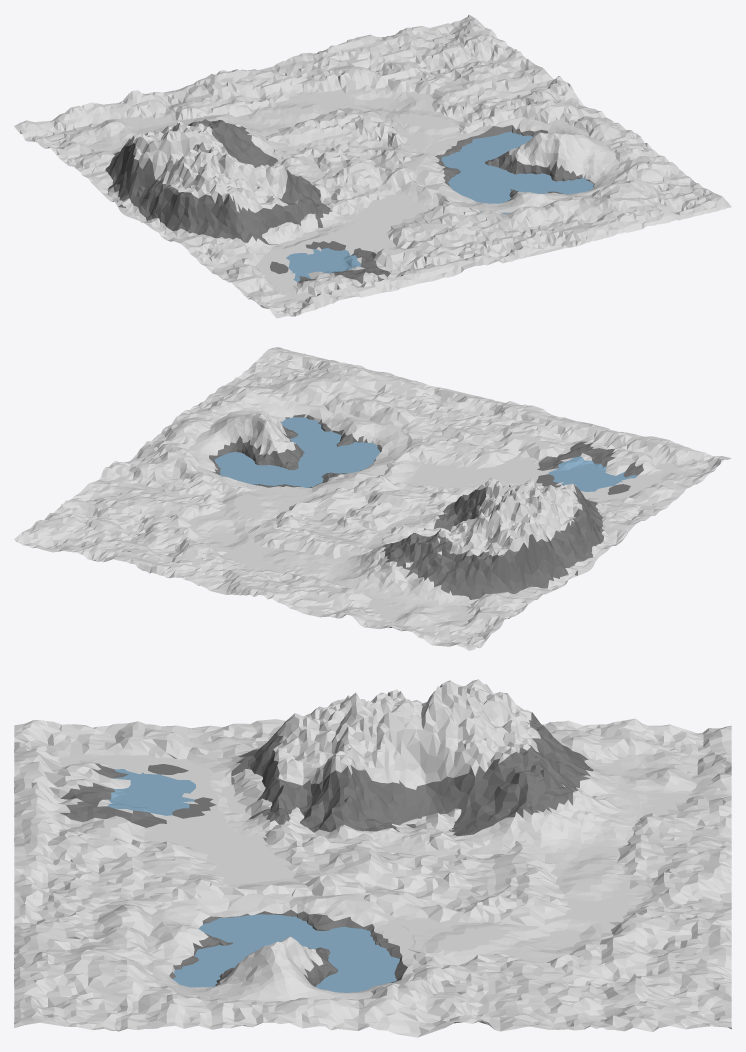
File: Land6.fbx
The picture shows the model from 3 angles, top to bottom: view 1: azimuth 30°, elevation 25°; view 2: azimuth 150°, elevation 25°; view 3: azimuth 270°, elevation 25°; orthographic projection. The views are drawn at different scales.
Visible parts, largest first — view 1: Landscape.003, Landscape.008, Landscape, Landscape_plane; view 2: Landscape.003, Landscape.008, Landscape, Landscape_plane; view 3: Landscape.003, Landscape.008, Landscape, Landscape_plane.
Boxes of the visible parts, x1,y1,x2,y2 form: Landscape.003: [14, 14, 731, 318]; Landscape.008: [105, 114, 354, 255]; Landscape: [404, 117, 624, 212]; Landscape_plane: [441, 131, 593, 213]; Landscape.003: [14, 347, 731, 650]; Landscape.008: [332, 477, 613, 606]; Landscape: [189, 400, 408, 497]; Landscape_plane: [214, 417, 380, 487]; Landscape.003: [14, 718, 731, 1037]; Landscape.008: [208, 679, 642, 855]; Landscape: [145, 893, 420, 1001]; Landscape_plane: [173, 914, 399, 992].
Size of the model in its own units: 45570 by 8587 by 45030.
